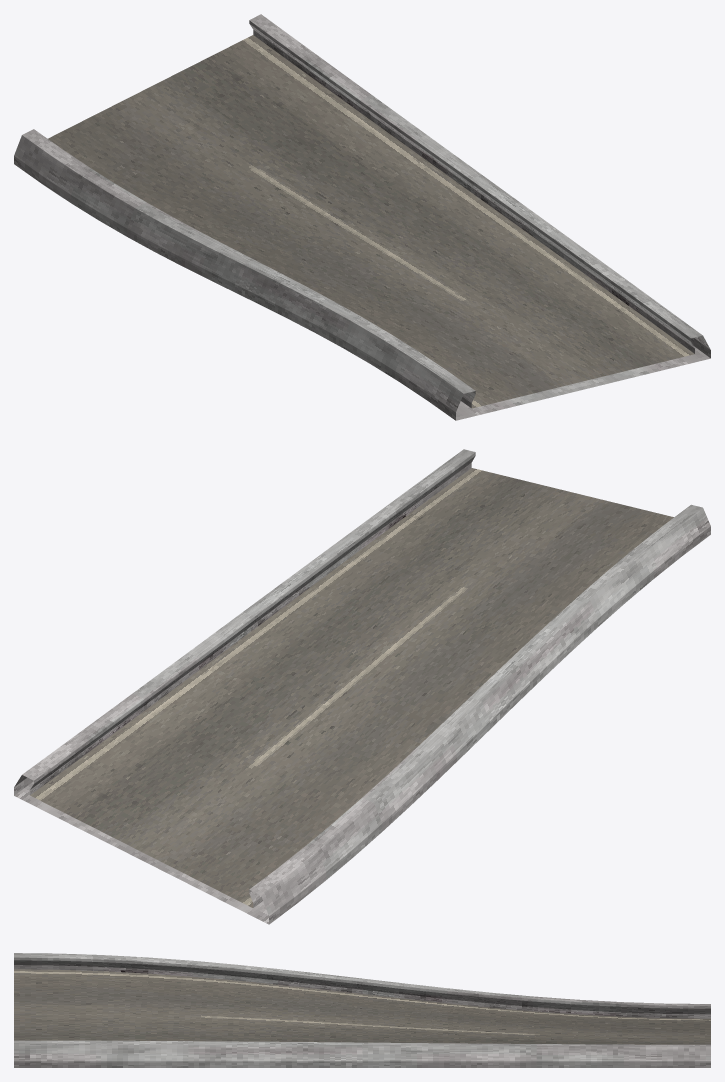
The model's file is road-Straight-Flat-HalfBankedLeft-Down1-Center-Size3.glb.
3 views of the same model, one above another, from view 1: azimuth 30°, elevation 25°; view 2: azimuth 150°, elevation 25°; view 3: azimuth 270°, elevation 25° (orthographic). The views are drawn at different scales.
Parts seen in each view (by area): view 1: road-Straight-Flat-HalfBankedLeft-Down1-Center-Size3; view 2: road-Straight-Flat-HalfBankedLeft-Down1-Center-Size3; view 3: road-Straight-Flat-HalfBankedLeft-Down1-Center-Size3.
Boxes of the visible parts, box(x1,y1,x2,y2) form: road-Straight-Flat-HalfBankedLeft-Down1-Center-Size3: box(14, 14, 710, 420); road-Straight-Flat-HalfBankedLeft-Down1-Center-Size3: box(14, 449, 710, 924); road-Straight-Flat-HalfBankedLeft-Down1-Center-Size3: box(14, 953, 710, 1067).
Bounding box in the file's own units: 1 × 0.3438 × 3.
Materials: 2 (2 with a texture image).
